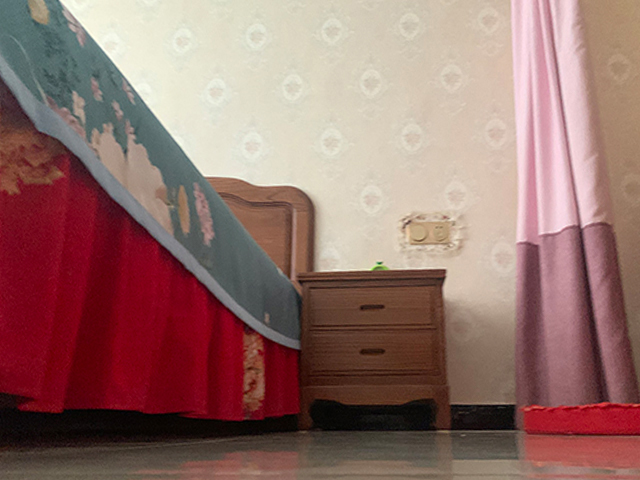bed: (1, 1, 313, 424)
cabinet: (296, 267, 451, 431)
curtain: (508, 1, 640, 428)
